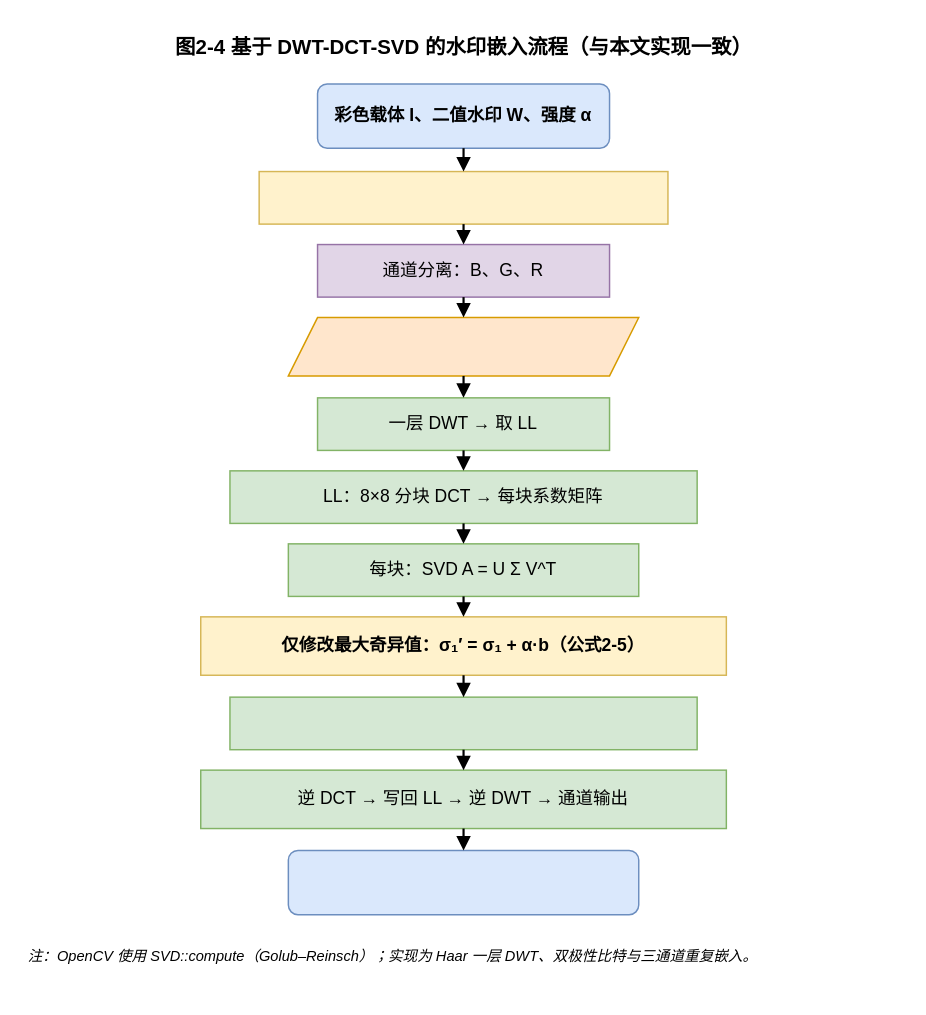
The diagram is 926 pixels wide and 1015 high, and some of its shapes have lost their labels. The shapes that lost their labels are listed below. From the top down, each one's centre as x and y in pixels, then its label:
At point 463,197: "水印展平 → 双极性序列 b∈{−1,+1}".
At point 463,346: "对每个颜色通道循环".
At point 462,723: "逆 SVD：A′ = U diag(σ′) V^T（公式2-6）".
At point 463,882: "merge(B,G,R) → 含水印彩色图 Iw".
